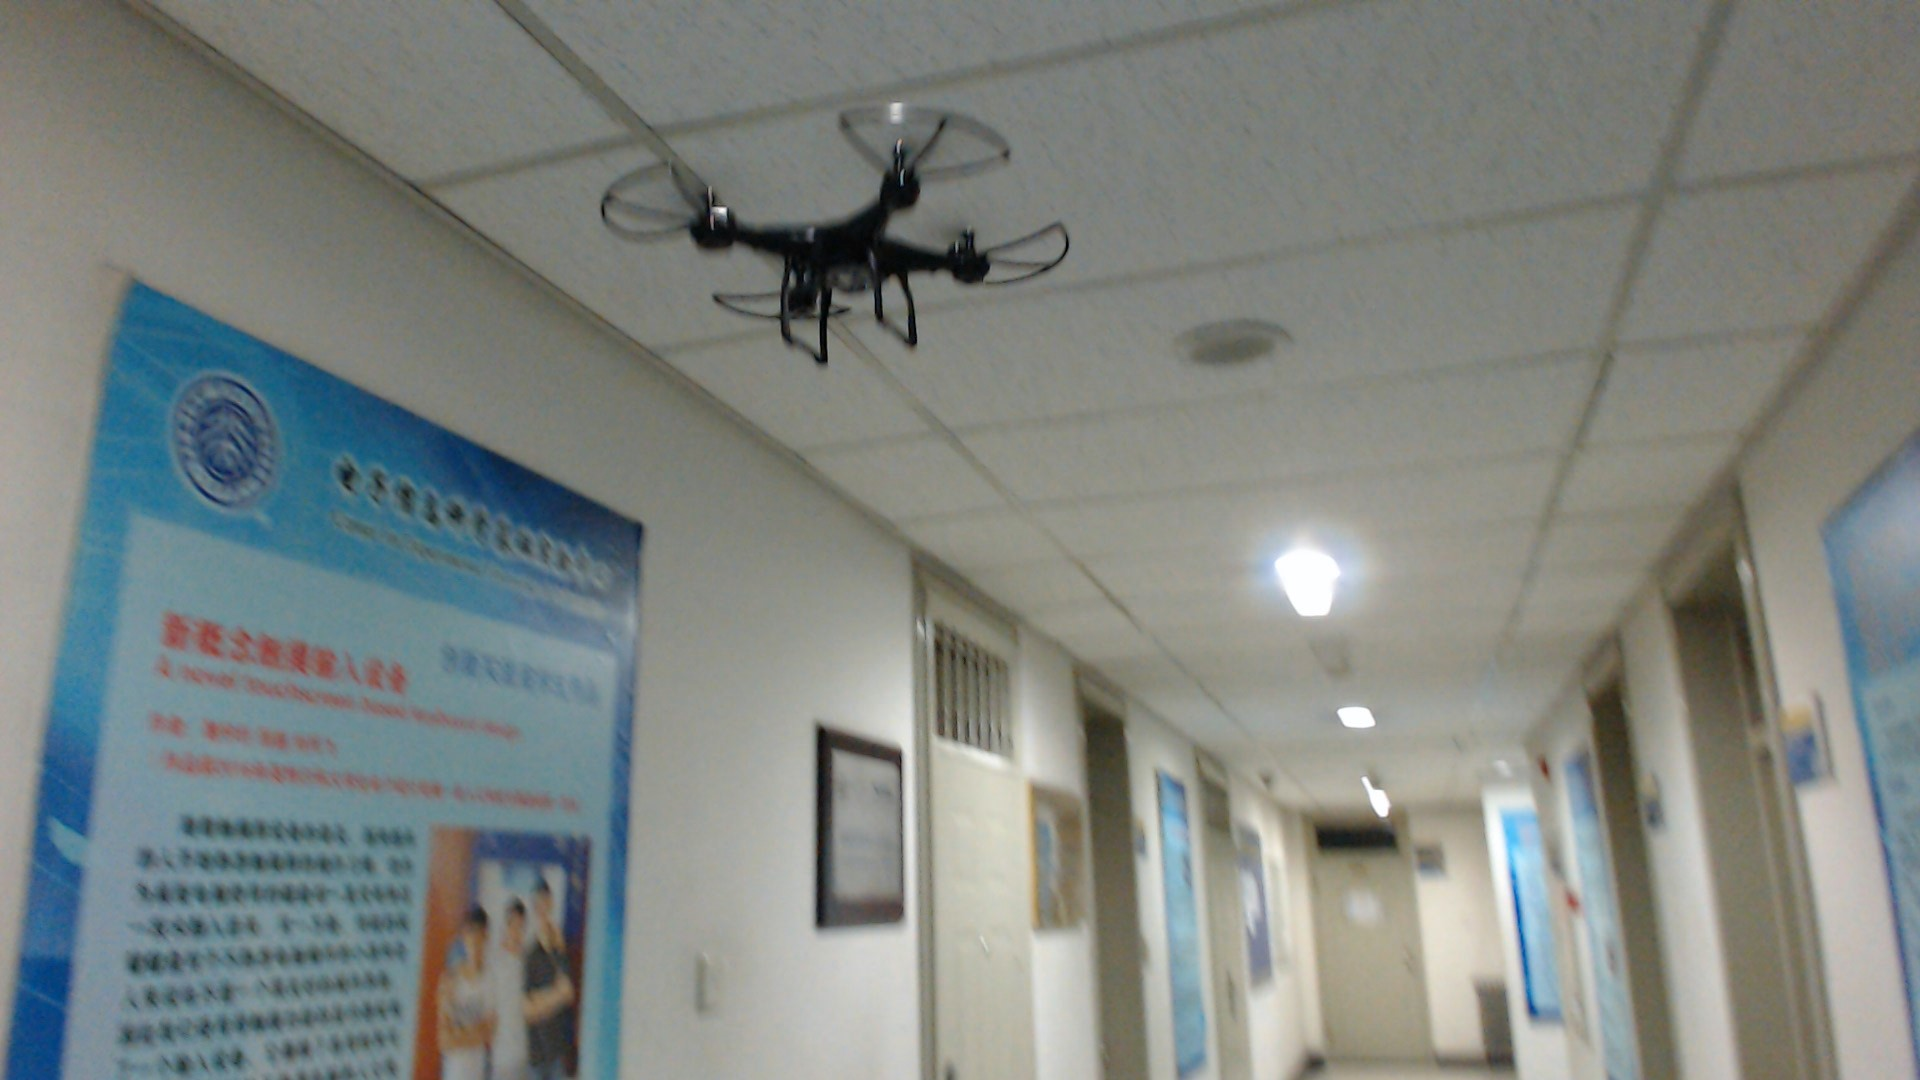drone: (597, 98, 1076, 375)
